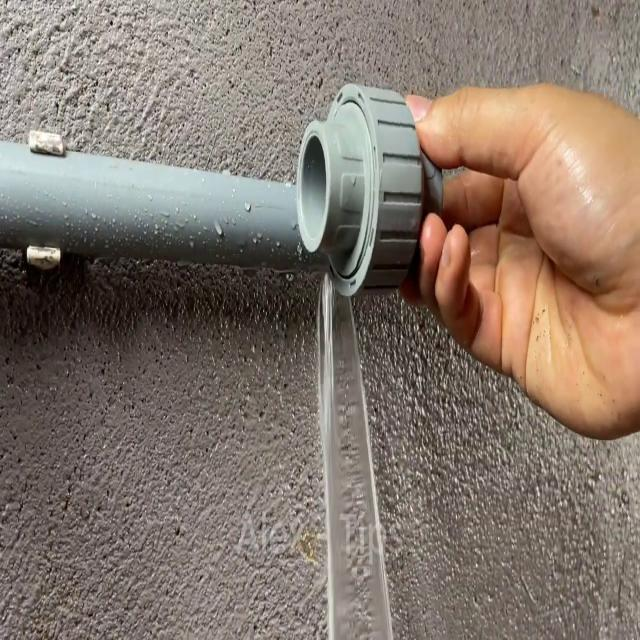leak: (327, 276, 394, 640)
